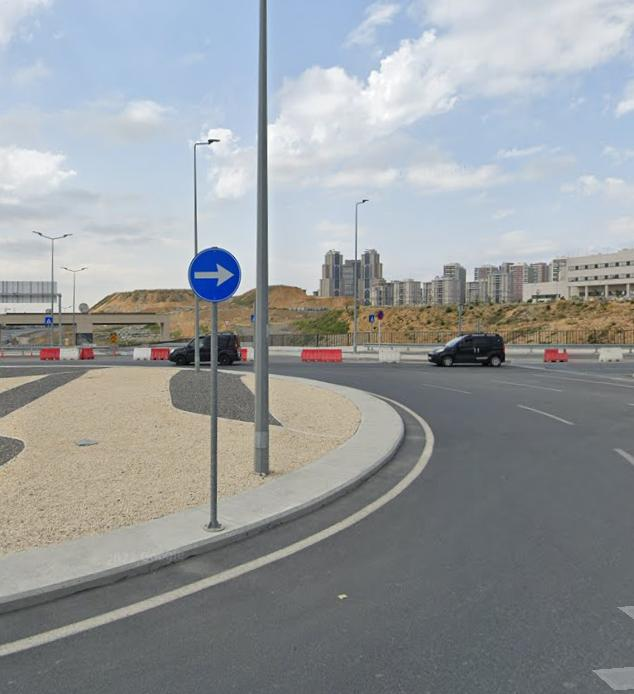turnright: (184, 247, 242, 300)
